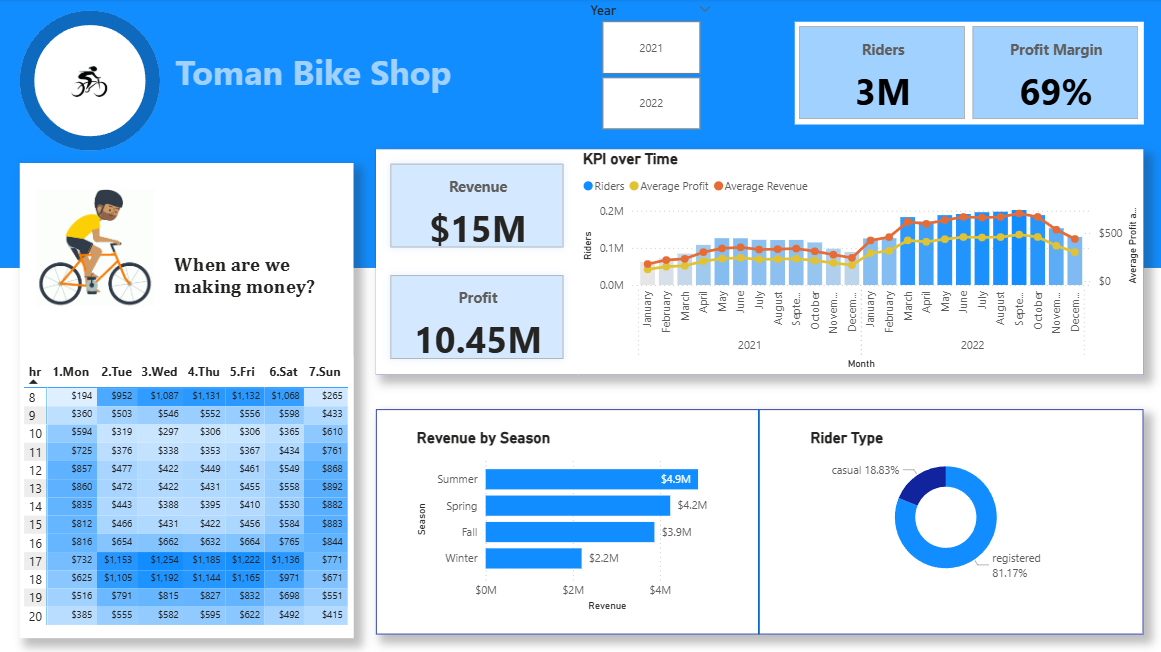

What the dashboard file says about the page in this screenshot:
{"tool":"powerbi","page":{"name":"Page 1","canvas":[1280,720],"ordinal":0},"visuals":[{"type":"shape","box":[0,0,1280.3,296.4],"z":0},{"type":"card","fields":{"Values":["Min(Query1.riders)"]},"box":[26.1,181.1,366.4,521.4],"z":1000},{"type":"card","fields":{"Values":["Min(Query1.riders)"]},"box":[417.2,166,842.5,247],"z":2000},{"type":"card","fields":{"Values":["Min(Query1.riders)"]},"box":[417.2,451.5,842.5,247],"z":3000},{"type":"image","box":[39.8,201.7,138.6,144.1],"z":4000},{"type":"pivotTable","fields":{"Rows":["Query1.hr"],"Values":["Avg(Query1.revenue)"],"Columns":["Query1.Day_of_the_week"]},"box":[26.1,382.8,366.4,315.6],"z":5000},{"type":"textbox","box":[179.8,227.8,214.1,61.7],"z":6000},{"type":"lineClusteredColumnComboChart","title":"KPI over Time","fields":{"Category":["Query1.dteday.Variation.Date Hierarchy.Year","Query1.dteday.Variation.Date Hierarchy.Month","Query1.dteday.Variation.Date Hierarchy.Day"],"Y":["Sum(Query1.riders)"],"Y2":["Avg(Query1.profit)","Avg(Query1.revenue)"]},"box":[639.5,166,620.2,247],"z":7000},{"type":"clusteredBarChart","title":"Revenue by Season","fields":{"Category":["Query1.Season_Name"],"Y":["Sum(Query1.revenue)"]},"box":[456.9,472,365,205.8],"z":8000},{"type":"donutChart","title":"Rider Type","fields":{"Category":["Query1.rider_type"],"Y":["Sum(Query1.riders)"]},"box":[889.2,472,307.4,175.6],"z":9000},{"type":"shape","box":[672.4,451.5,299.1,247],"z":10000},{"type":"cardVisual","title":"KPI over Time","fields":{"Data":["Sum(Query1.revenue)","Sum(Query1.profit)"]},"box":[417.2,166,222.3,247],"z":11000},{"type":"cardVisual","fields":{"Data":["Sum(Query1.riders)","Query1.Profit Margin"]},"box":[876.8,26.1,382.8,112.5],"z":12000},{"type":"shape","box":[26.1,5.5,153.7,153.7],"z":13000},{"type":"image","box":[53.5,32.9,98.8,98.8],"z":14000},{"type":"textbox","box":[109.8,50.8,477.5,81],"z":15000},{"type":"slicer","fields":{"Values":["Query1.Years"]},"box":[639.5,0,157.8,150.9],"z":16000}]}

Visuals, with their boxes in screenshot pixels (x1, y1, x2, y2), scaled from the page's 1280x720 canvas onto the 1161x652 screenshot:
shape: pyautogui.locateOnScreen(0, 0, 1160, 268)
card - Min(Query1.riders): pyautogui.locateOnScreen(24, 164, 356, 636)
card - Min(Query1.riders): pyautogui.locateOnScreen(378, 150, 1143, 374)
card - Min(Query1.riders): pyautogui.locateOnScreen(378, 409, 1143, 633)
image: pyautogui.locateOnScreen(36, 183, 162, 313)
pivotTable - Query1.hr x Avg(Query1.revenue): pyautogui.locateOnScreen(24, 347, 356, 632)
textbox: pyautogui.locateOnScreen(163, 206, 357, 262)
"KPI over Time" lineClusteredColumnComboChart: pyautogui.locateOnScreen(580, 150, 1143, 374)
"Revenue by Season" clusteredBarChart: pyautogui.locateOnScreen(414, 427, 745, 614)
"Rider Type" donutChart: pyautogui.locateOnScreen(807, 427, 1085, 586)
shape: pyautogui.locateOnScreen(610, 409, 881, 633)
"KPI over Time" cardVisual: pyautogui.locateOnScreen(378, 150, 580, 374)
cardVisual - Sum(Query1.riders) x Query1.Profit Margin: pyautogui.locateOnScreen(795, 24, 1142, 126)
shape: pyautogui.locateOnScreen(24, 5, 163, 144)
image: pyautogui.locateOnScreen(49, 30, 138, 119)
textbox: pyautogui.locateOnScreen(100, 46, 533, 119)
slicer - Query1.Years: pyautogui.locateOnScreen(580, 0, 723, 137)
